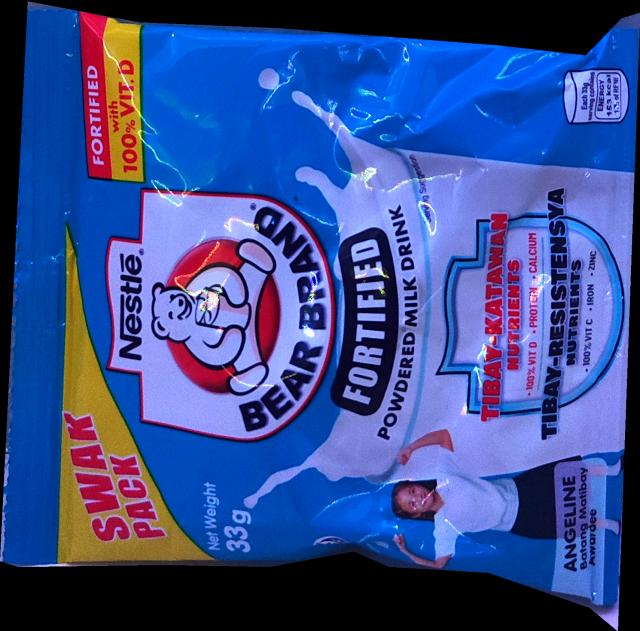bear brand: (0, 1, 640, 631)
